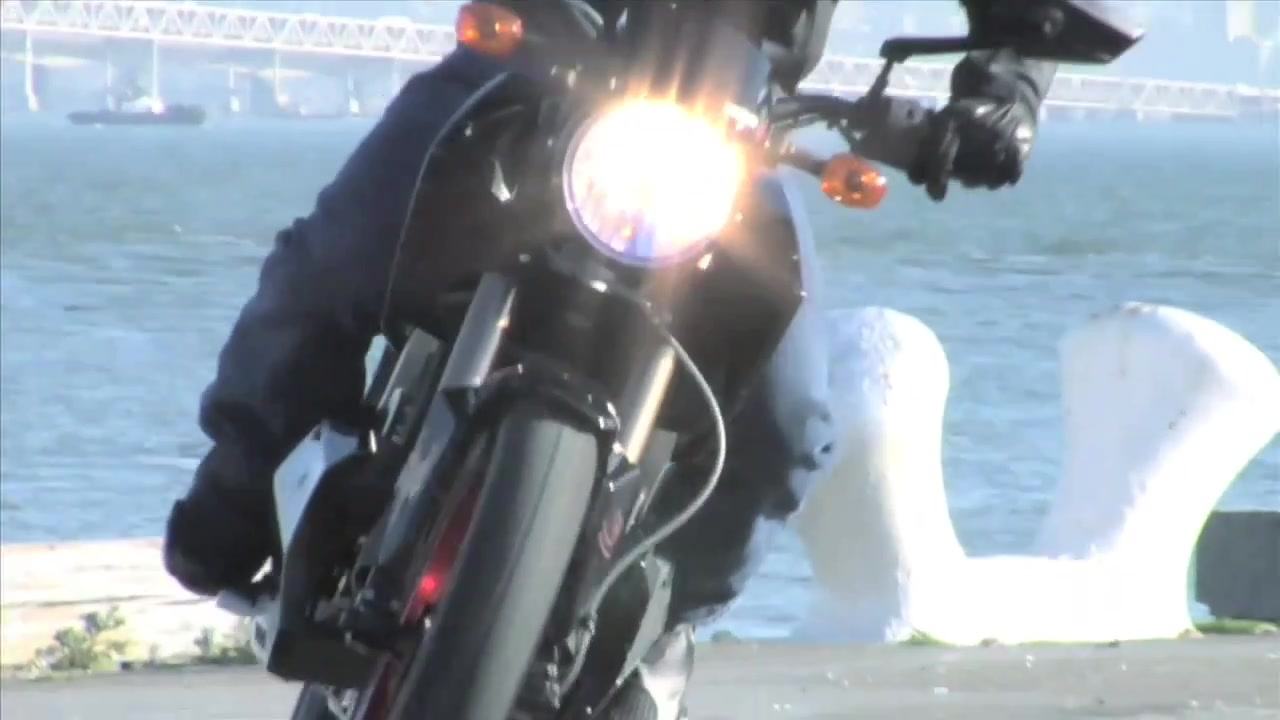motorbike: (216, 4, 1151, 720)
